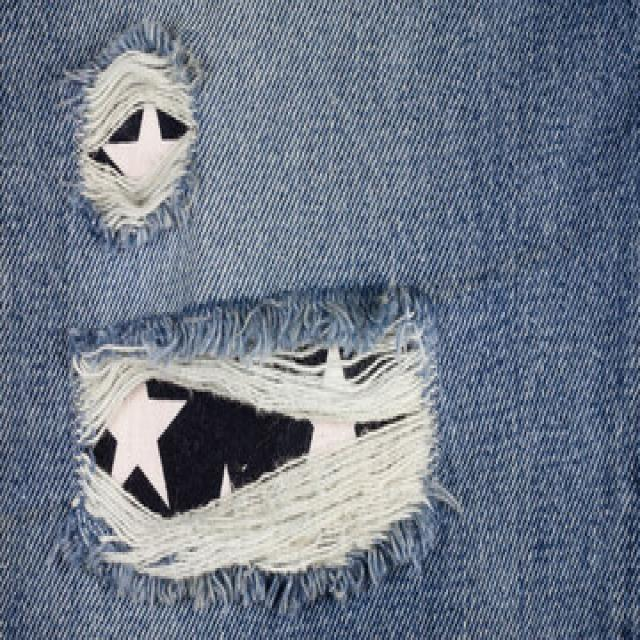Hole: (61, 291, 455, 613), (66, 21, 202, 248)
